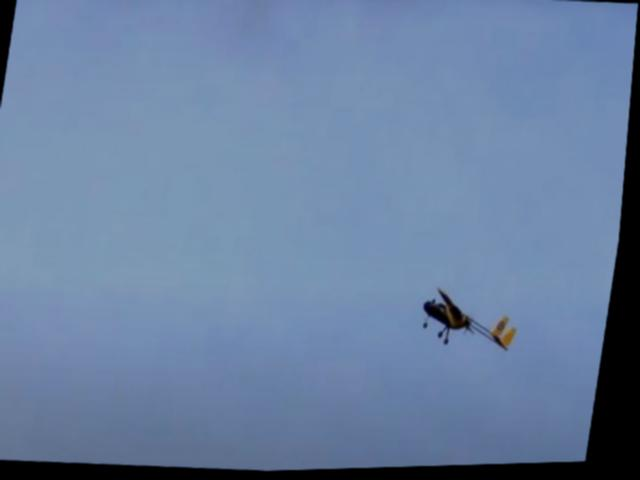iha: (414, 277, 536, 356)
